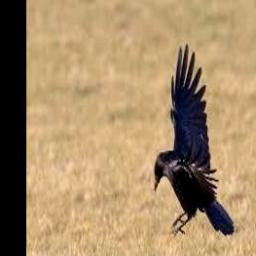Crow: (154, 44, 236, 238)
